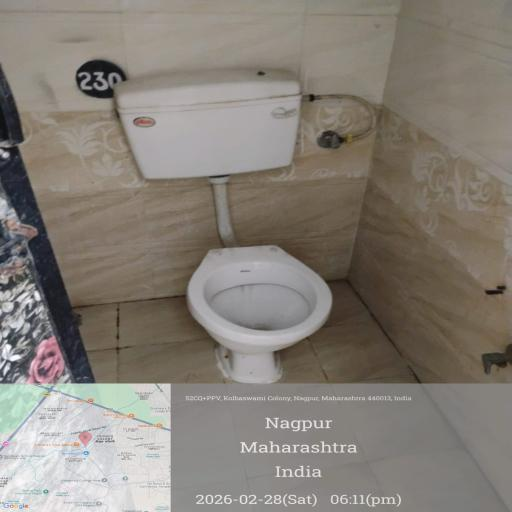clean_floor: (70, 28, 476, 177)
clean_western: (191, 240, 343, 382)
partial_dirty_floor: (35, 256, 512, 502)
